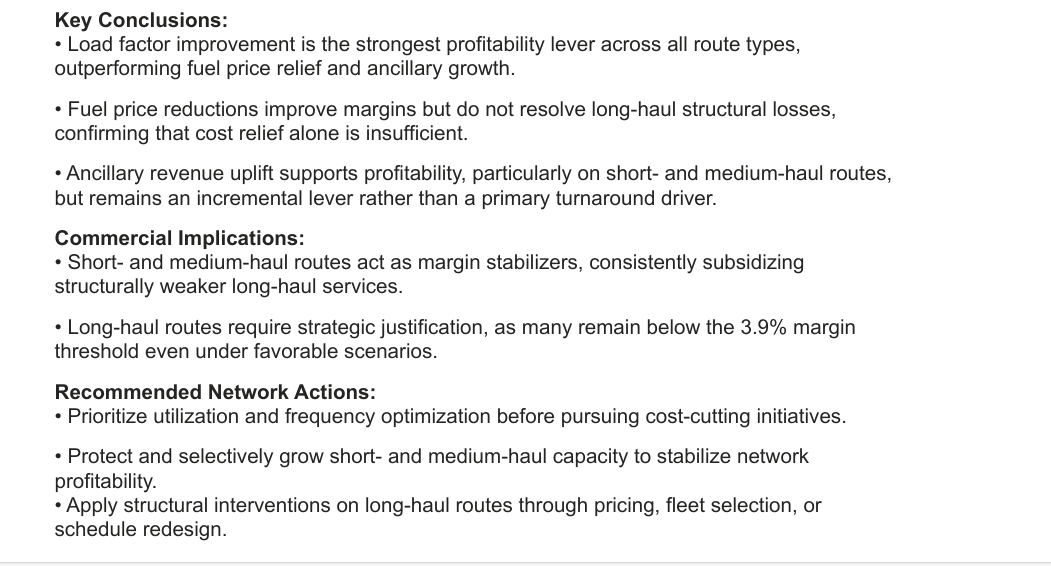

Layout of this report page (visuals, bound fields, positions):
{"tool":"powerbi","page":{"name":"Executive Conclusions & Network Actions","canvas":[1280,720],"ordinal":2},"visuals":[{"type":"textbox","box":[43.3,16.7,893.3,581.7],"z":0}]}

Visuals, with their boxes on the page's 1280x720 design canvas (x1, y1, x2, y2). These are canvas units, not pixel positions in the 1051x566 screenshot, which may show the page scaled, cropped or inside an application window:
textbox: left=43, top=17, right=937, bottom=598
